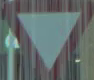Give way: (3, 2, 86, 72)
